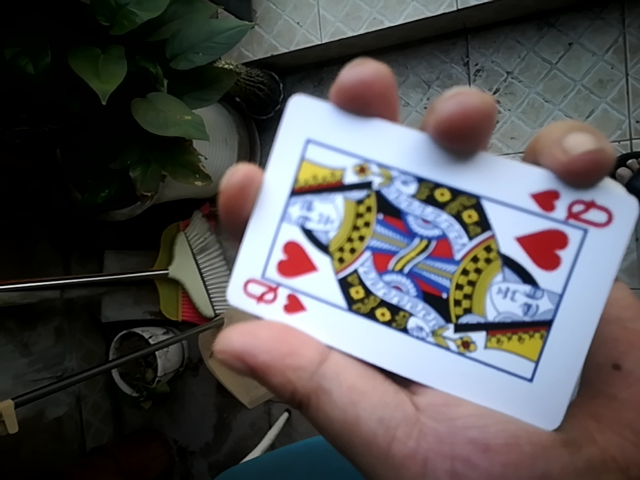hx q: (213, 84, 634, 415)
